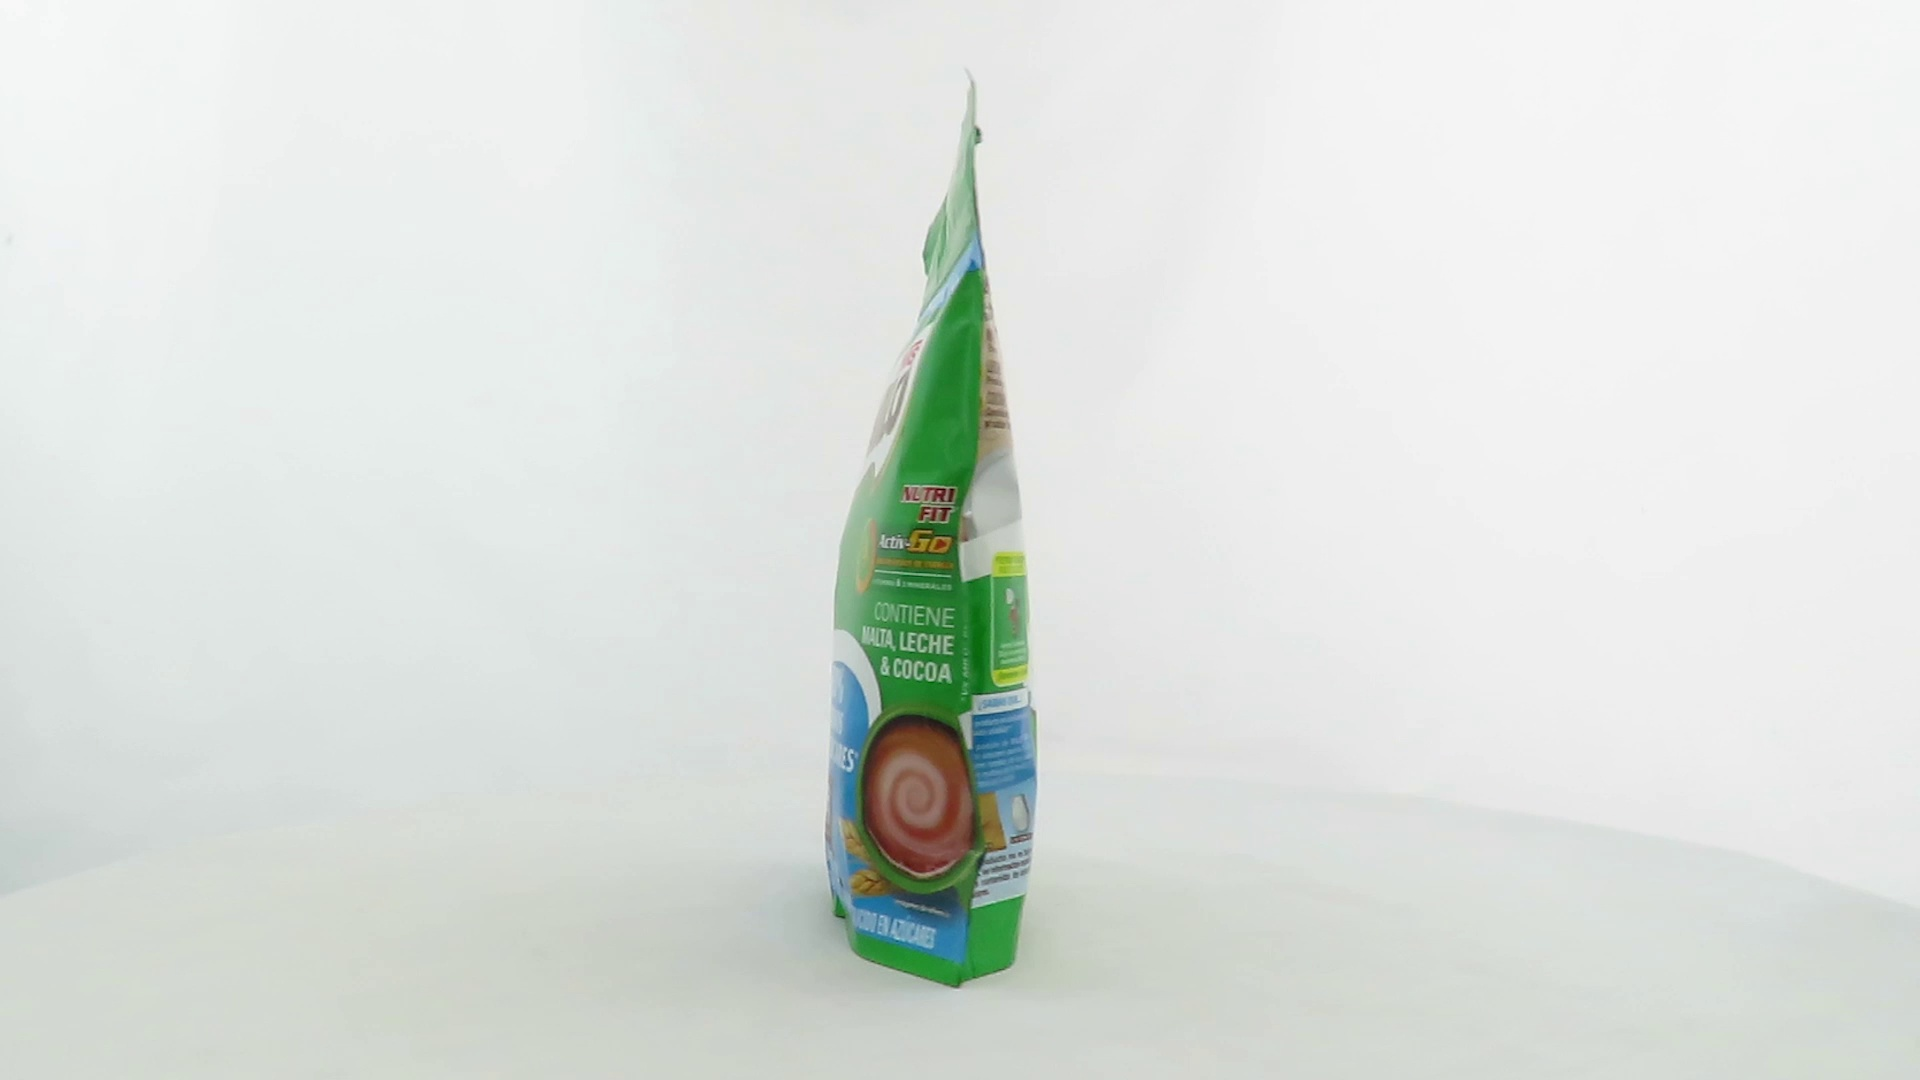COL0170205DYP20000: (819, 112, 1044, 996)
